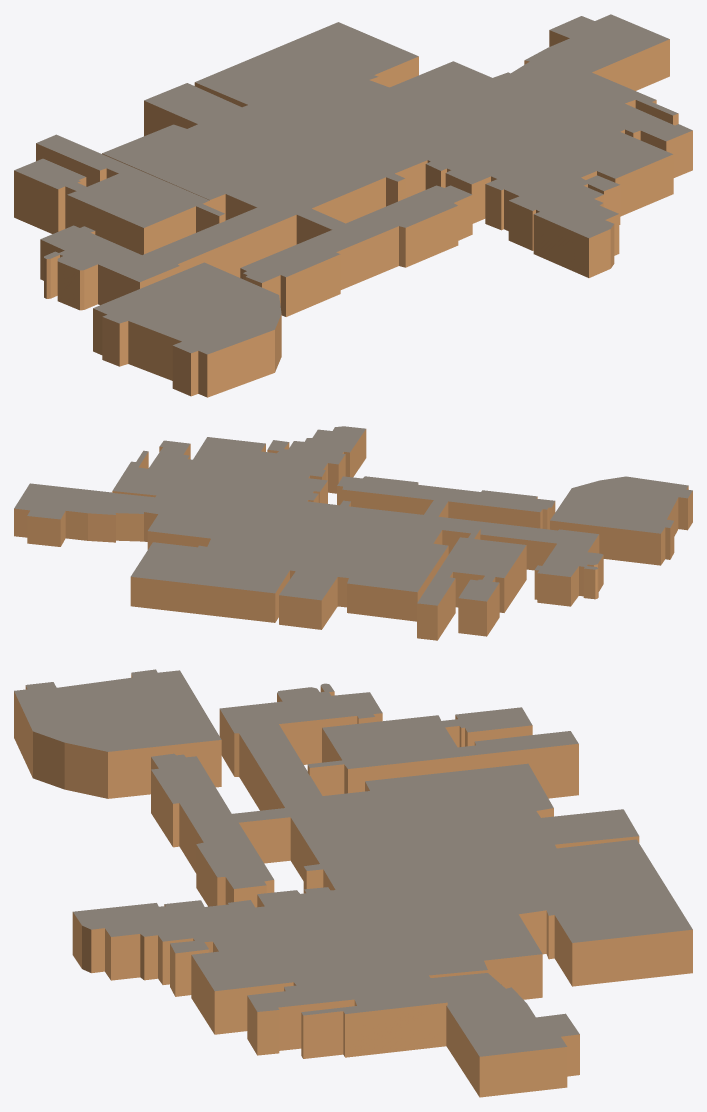
File: buildings.gltf
3 views of the same model, one above another, from view 1: azimuth 30°, elevation 25°; view 2: azimuth 150°, elevation 25°; view 3: azimuth 270°, elevation 25° (orthographic). The views are drawn at different scales.
Parts seen in each view (by area): view 1: Cork University Hospital, Cork University Hospital Cardiac & Renal Centre, element, CUH Accident & Emergency; view 2: Cork University Hospital, Cork University Hospital Cardiac & Renal Centre, element, CUH Accident & Emergency; view 3: Cork University Hospital, Cork University Hospital Cardiac & Renal Centre, element, CUH Accident & Emergency.
Part boxes in pixels (x1=…): Cork University Hospital: x1=40, y1=22, x2=692, y2=316; Cork University Hospital Cardiac & Renal Centre: x1=93, y1=262, x2=281, y2=397; element: x1=14, y1=134, x2=225, y2=254; CUH Accident & Emergency: x1=511, y1=14, x2=669, y2=90; Cork University Hospital: x1=112, y1=426, x2=603, y2=629; Cork University Hospital Cardiac & Renal Centre: x1=550, y1=476, x2=692, y2=565; element: x1=417, y1=528, x2=526, y2=640; CUH Accident & Emergency: x1=14, y1=483, x2=154, y2=546; Cork University Hospital: x1=72, y1=683, x2=692, y2=1058; Cork University Hospital Cardiac & Renal Centre: x1=14, y1=669, x2=221, y2=798; element: x1=307, y1=707, x2=578, y2=798; CUH Accident & Emergency: x1=431, y1=973, x2=579, y2=1097.
Size of the model in its own units: 305 by 20.19 by 229.
